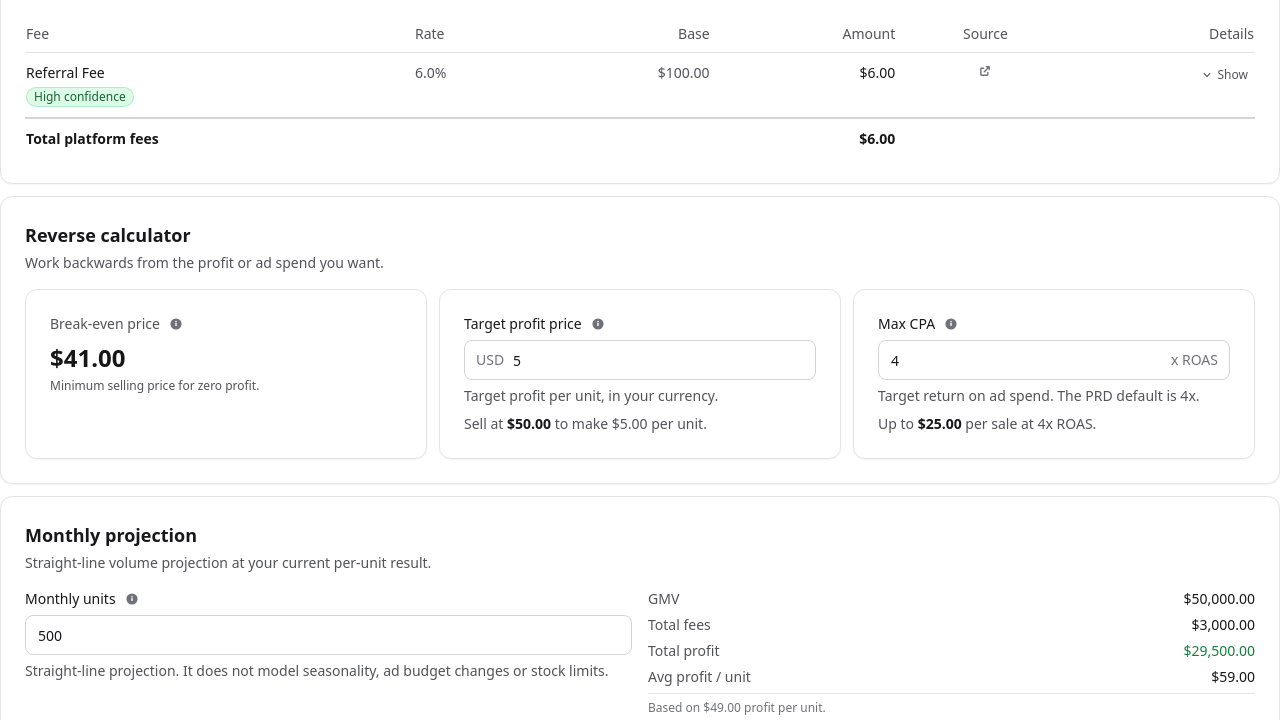
it: ResultsPanel › survives a network failure during refresh
This screenshot has width=1280, height=720.
(page scrolled)
Replace the text in the number field labelled "Max CPA" with "3" at [1054, 360], box [878,340,1230,380]
(page scrolled)
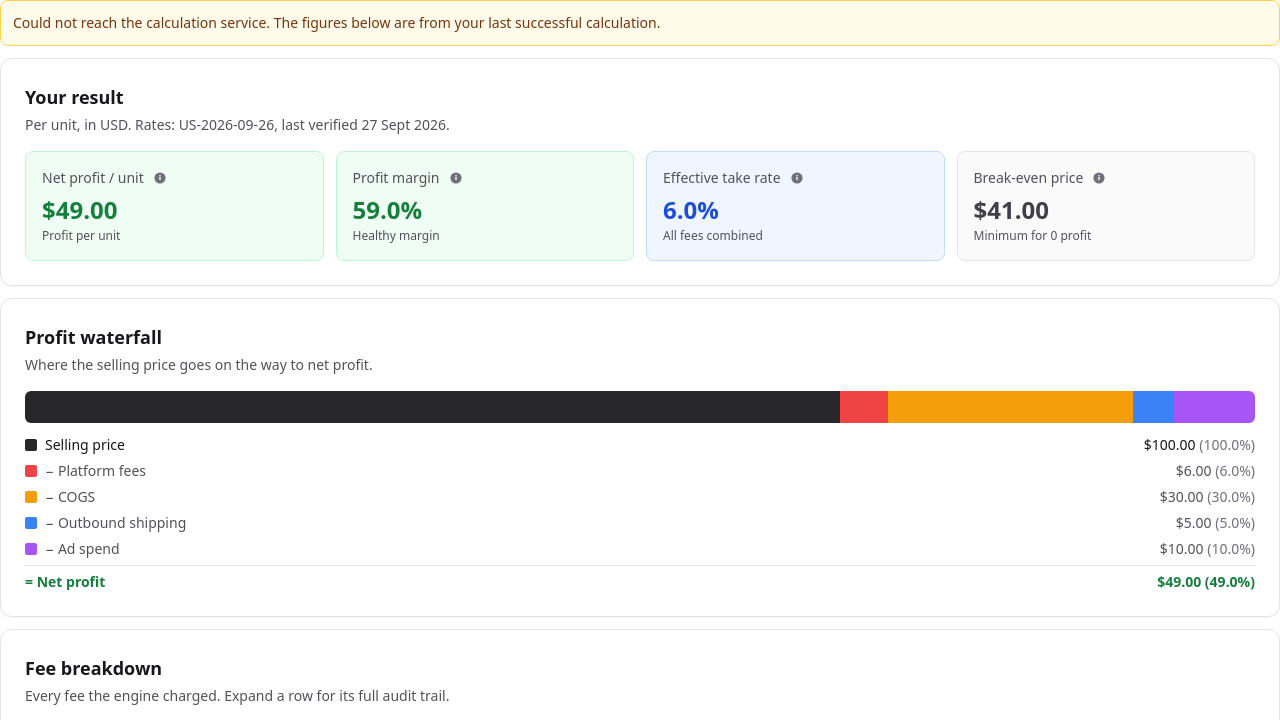
Check: the message shows "Could not reach the calculation service", box [13,13,270,32]
